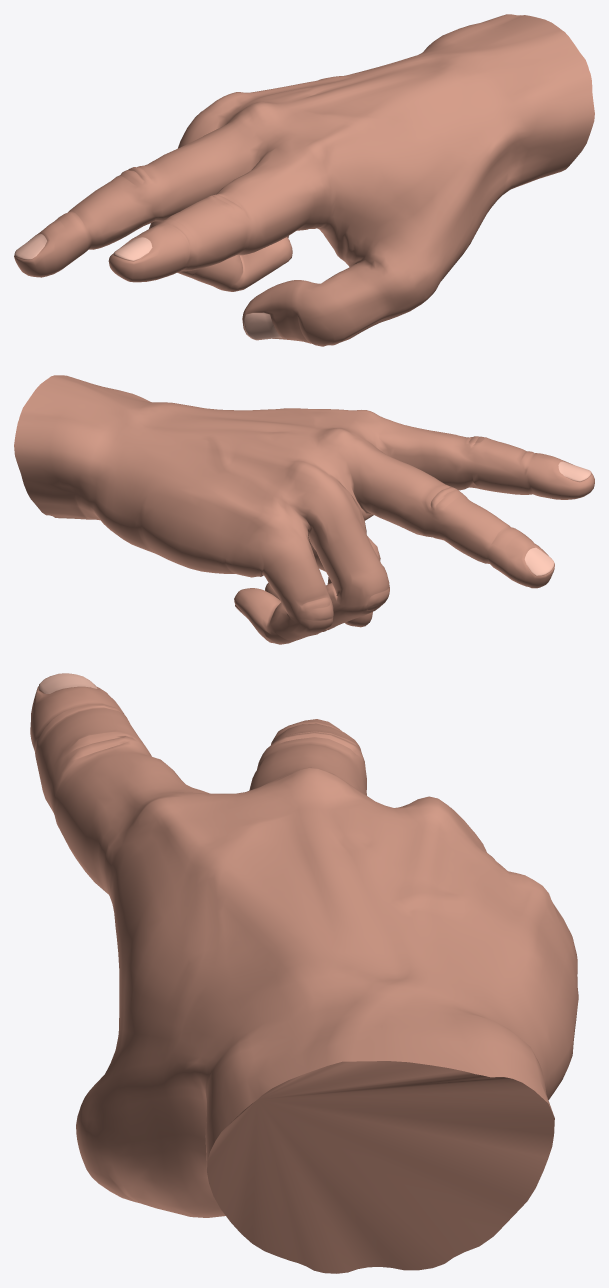
File: hand_33.obj
The picture shows the model from 3 angles, top to bottom: view 1: azimuth 30°, elevation 25°; view 2: azimuth 150°, elevation 25°; view 3: azimuth 270°, elevation 25°; orthographic projection. The views are drawn at different scales.
Visible parts, largest first — view 1: Figure_2; view 2: Figure_2; view 3: Figure_2.
Part boxes in pixels (bbox=[...]): Figure_2: bbox=[14, 14, 594, 346]; Figure_2: bbox=[14, 375, 594, 644]; Figure_2: bbox=[30, 673, 578, 1273].
Bounding box in the file's own units: 0.8919 × 0.3447 × 0.4263.
